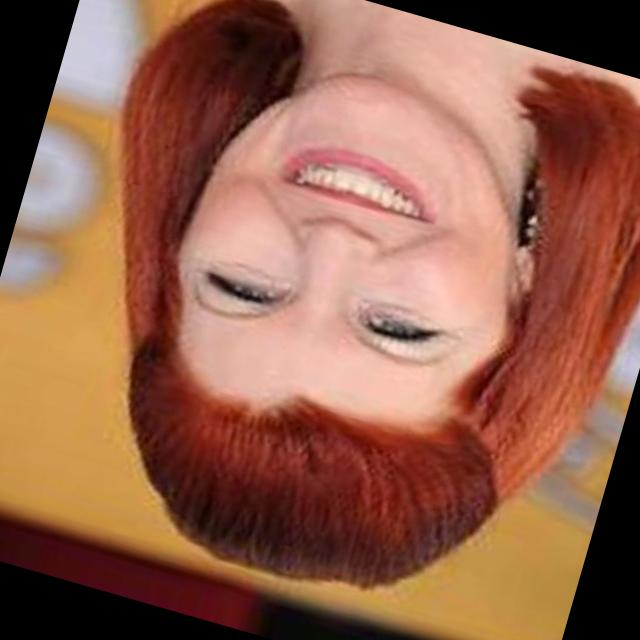bareface: (87, 2, 640, 580)
